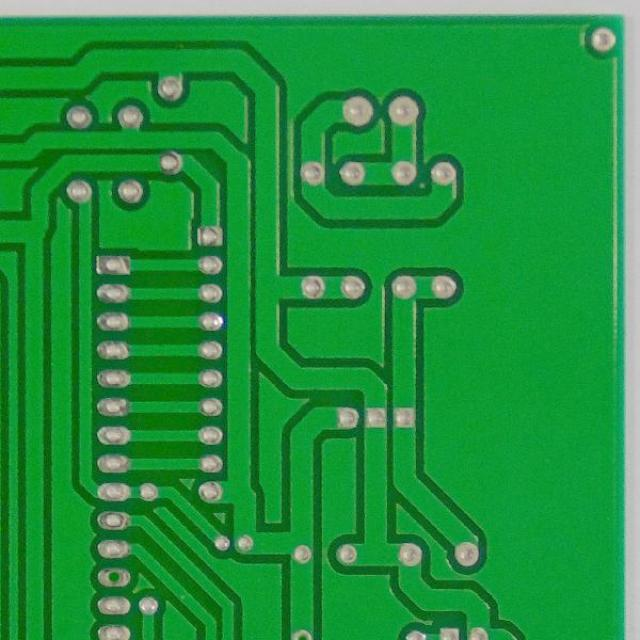Missing_Hole: (94, 565, 132, 589), (291, 625, 315, 640)
